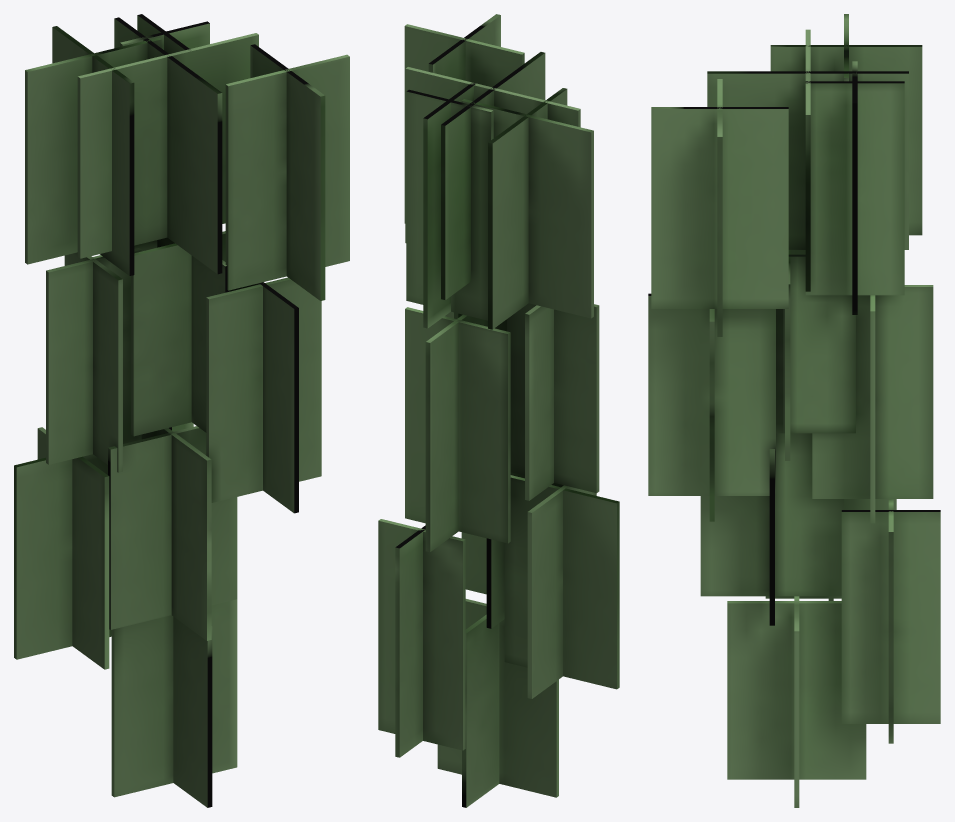
File: vinehang.glb
3 views of the same model, side by side, from view 1: azimuth 30°, elevation 25°; view 2: azimuth 150°, elevation 25°; view 3: azimuth 270°, elevation 25° (orthographic). The views are drawn at different scales.
Visible parts, largest first — view 1: vinehang; view 2: vinehang; view 3: vinehang.
Part boxes in pixels (bbox=[...]): vinehang: bbox=[14, 14, 349, 807]; vinehang: bbox=[378, 14, 619, 807]; vinehang: bbox=[648, 14, 940, 807].
Bounding box in the file's own units: 1.2 × 3 × 1.12.
Materials: 1 (1 with a texture image).
